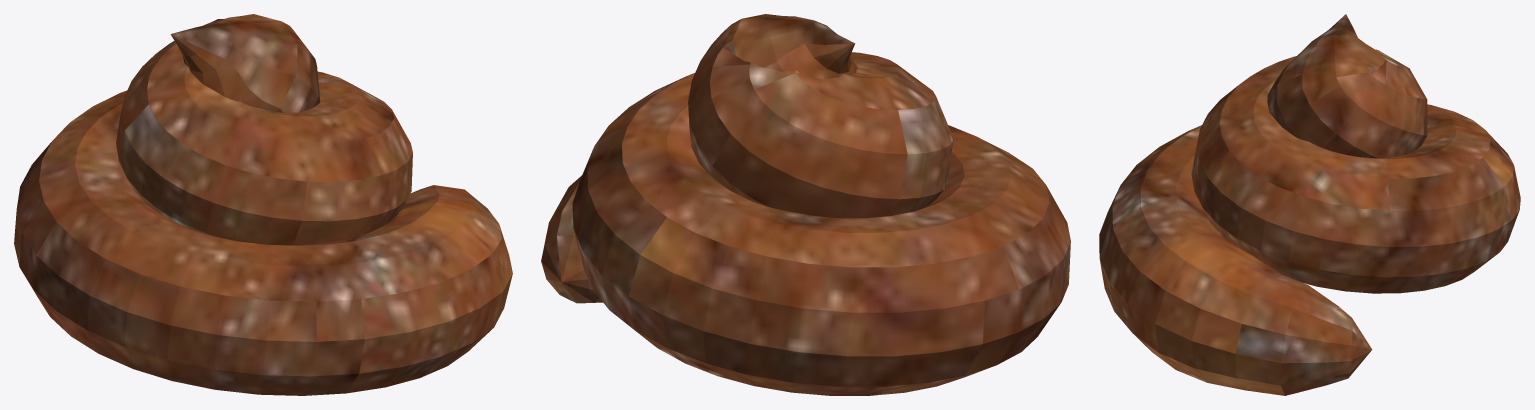
Rendered from poop.fbx.
3 renders of one model, left to right at view 1: azimuth 30°, elevation 25°; view 2: azimuth 150°, elevation 25°; view 3: azimuth 270°, elevation 25°, orthographic. The views are drawn at different scales.
Visible parts, largest first — view 1: Cube; view 2: Cube; view 3: Cube.
Boxes of the visible parts, x1,y1,x2,y2 form: Cube: [14, 14, 512, 395]; Cube: [541, 14, 1070, 395]; Cube: [1099, 14, 1520, 395].
Size of the model in its own units: 59.07 by 40.75 by 55.93.
1 material, 1 textured.
